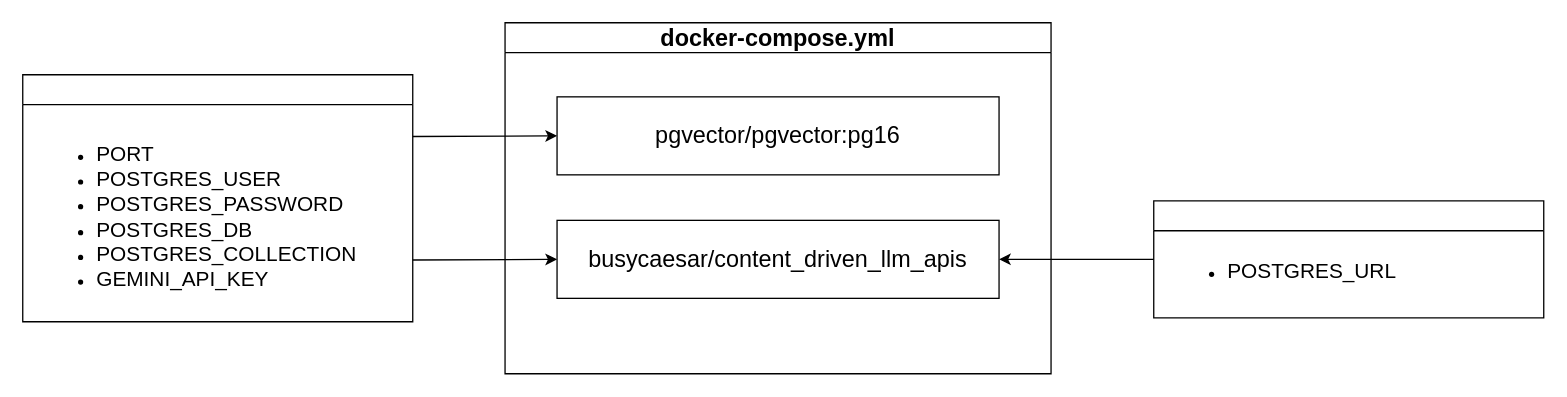
Image size: 1567x397. Some labels were removed from this diagram. Here are the shapes that lost their labels. From the top down, the box of each, then its label:
(21, 73, 413, 322): .env
(1152, 200, 1544, 318): environment variable
